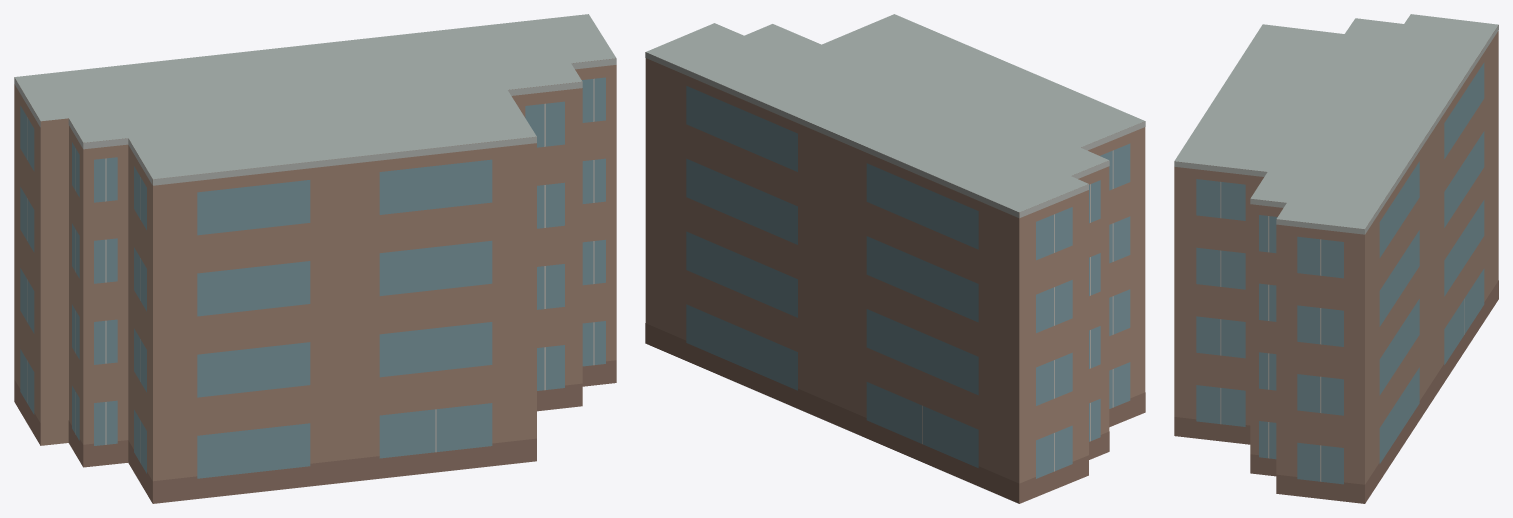
The model's file is survey-upis-32598014.glb.
3 renders of one model, left to right at view 1: azimuth 30°, elevation 25°; view 2: azimuth 150°, elevation 25°; view 3: azimuth 270°, elevation 25°, orthographic. The views are drawn at different scales.
Visible parts, largest first — view 1: survey-upis-32598014.tmp; view 2: survey-upis-32598014.tmp; view 3: survey-upis-32598014.tmp.
Boxes of the visible parts, box(x1,y1,x2,y2) form: survey-upis-32598014.tmp: box(14, 14, 616, 503); survey-upis-32598014.tmp: box(645, 14, 1145, 503); survey-upis-32598014.tmp: box(1174, 14, 1498, 503).
Size of the model in its own units: 20.5 by 12.2 by 13.07.
